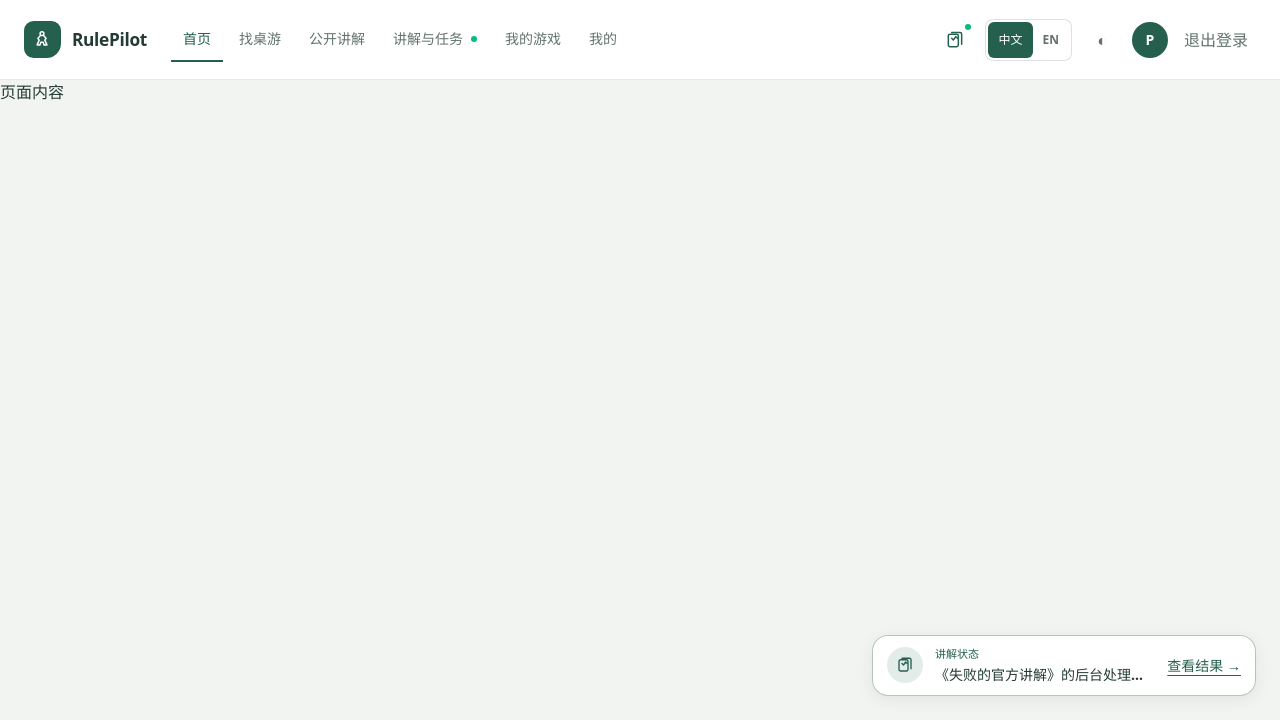
Test case: AppShell › clears failed import preparation and keeps it dismissed after the server refreshes
Click the button with test id "background-work-trigger-desktop" at coordinates (956, 40), box [934,18,978,62]
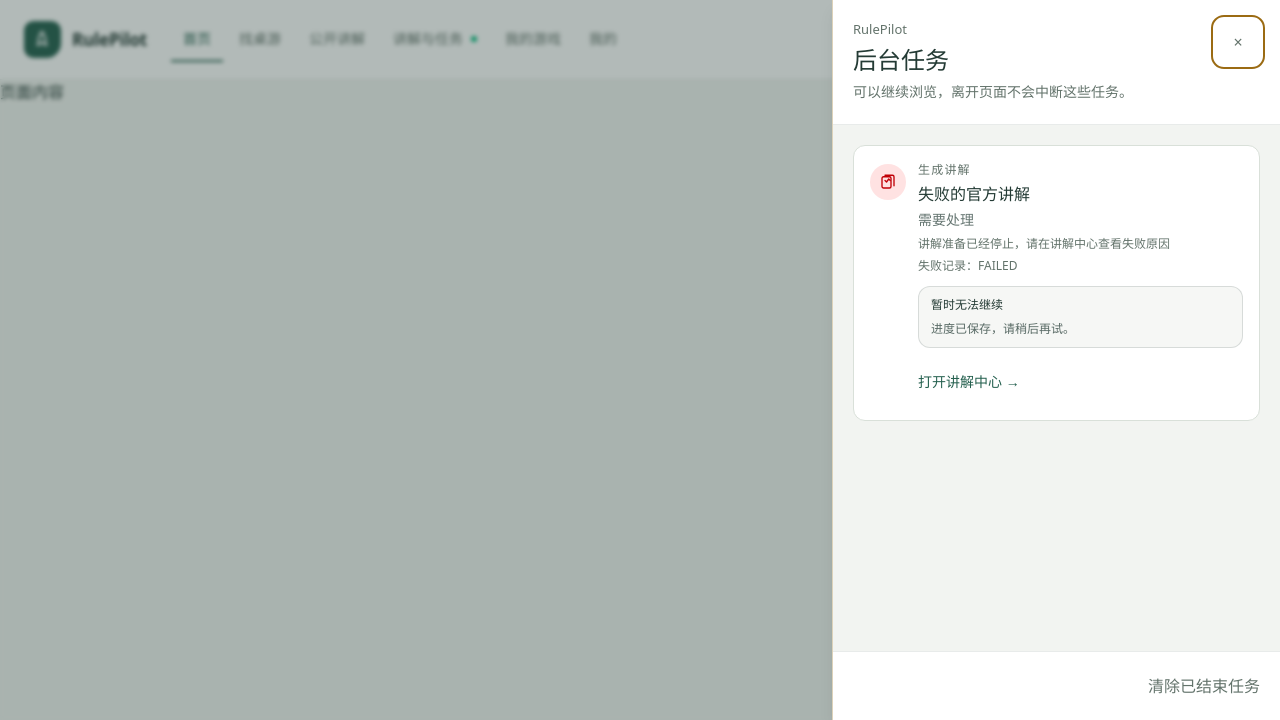
Check: the text "失败的官方讲解" is shown, box [918,182,1030,204]
Check: the text "需要处理" is shown, box [918,210,974,228]
Check: the text "讲解准备已经停止，请在讲解中心查看失败原因" is shown, box [918,234,1170,252]
Click the button "清除已结束任务" at coordinates (1204, 686), box [1148,664,1260,708]
Wait 15000 ms
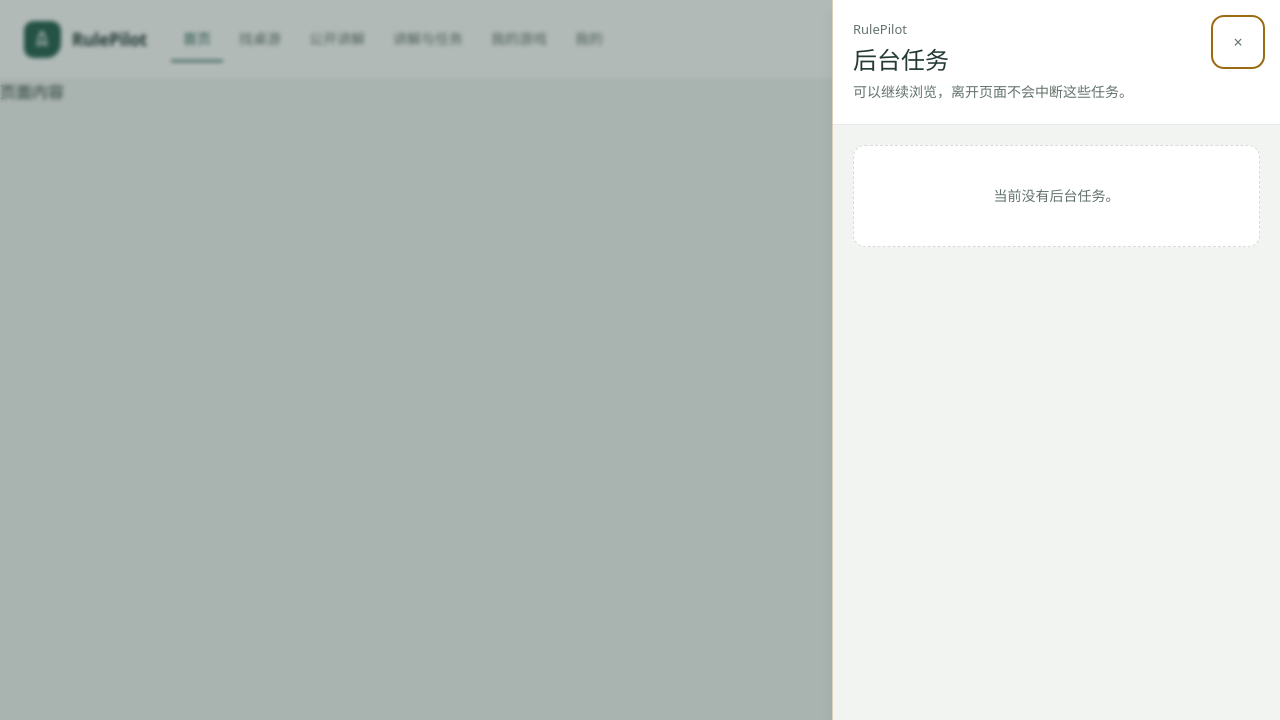
Check: the text "失败的官方讲解" is gone
